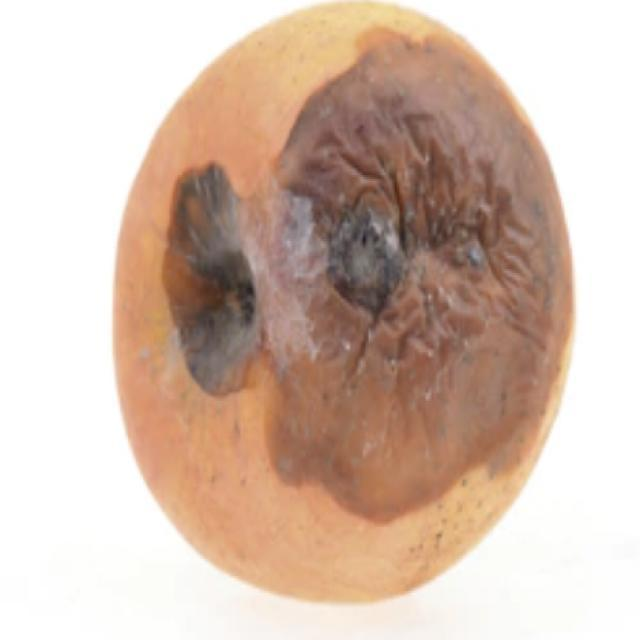Rotten: (117, 43, 573, 570)
